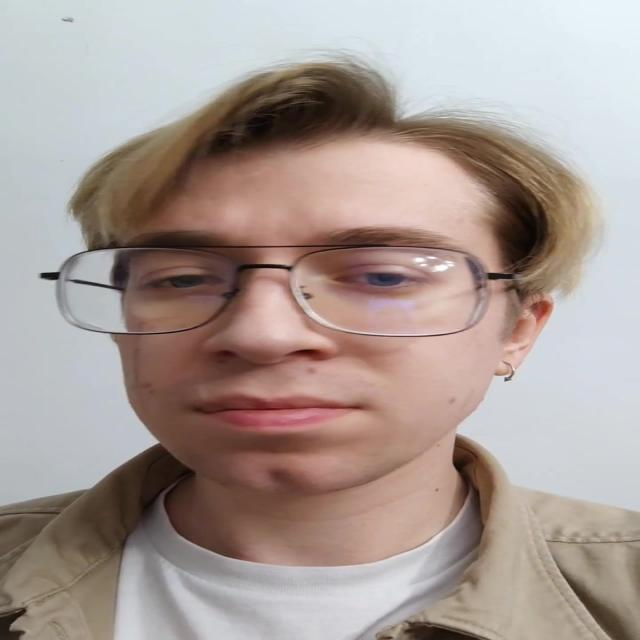earlobe: (492, 343, 528, 376)
eye: (139, 270, 225, 291), (337, 268, 422, 288)
nose: (210, 354, 324, 394)
wholeear: (492, 293, 554, 377)
